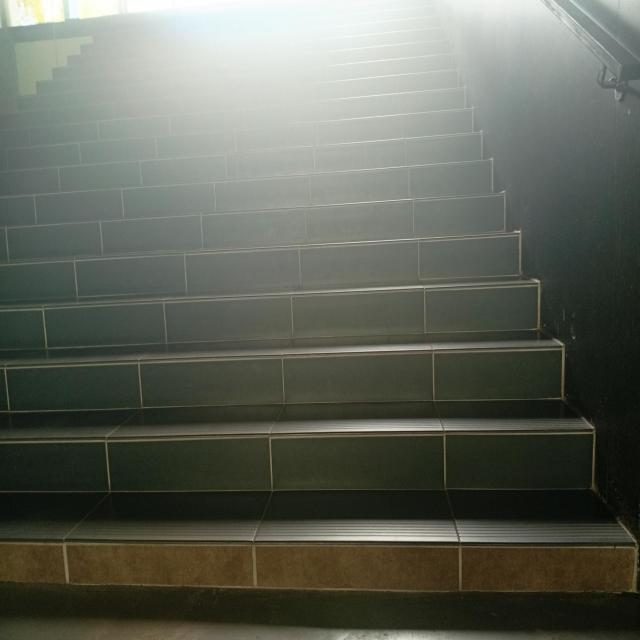Stairs: (66, 146, 619, 640)
